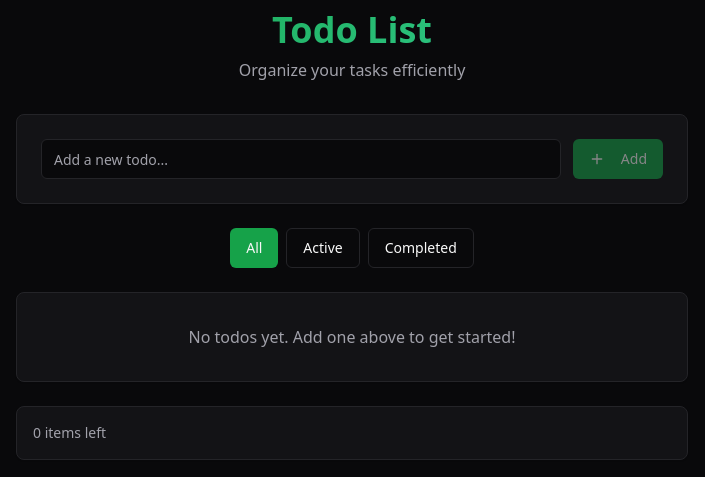
Scenario: TodoApp › should show todo count
This screenshot has width=705, height=477.
Expected: the text "0 items left" is shown, [33,423,106,443]
Step 1. Type "Test todo" into the field with placeholder "Add a new todo..." → (301, 159), box [41,139,561,179]
Then press Enter
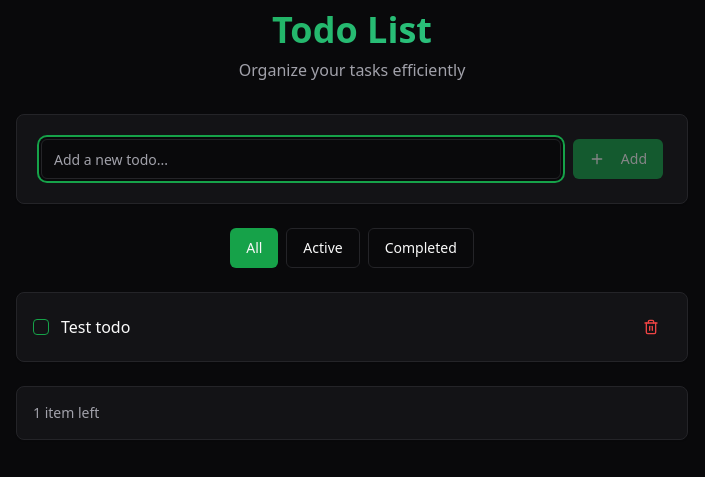
Expected: the text "1 item left" is shown, [33,403,99,423]
